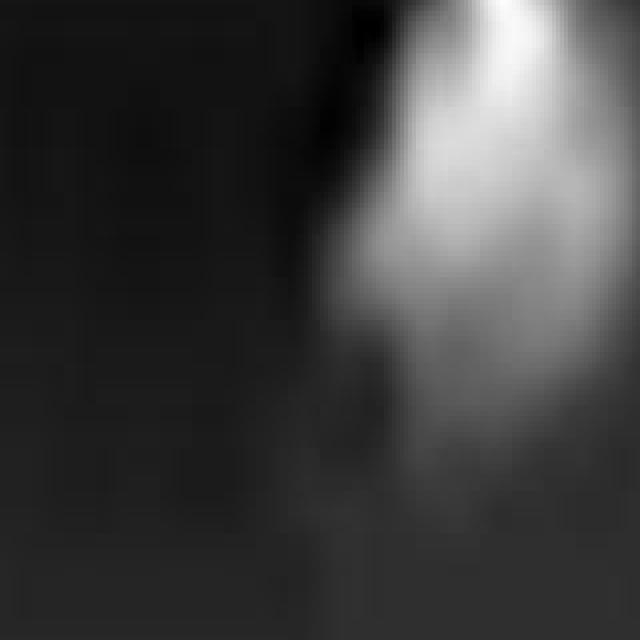person: (337, 1, 640, 465)
